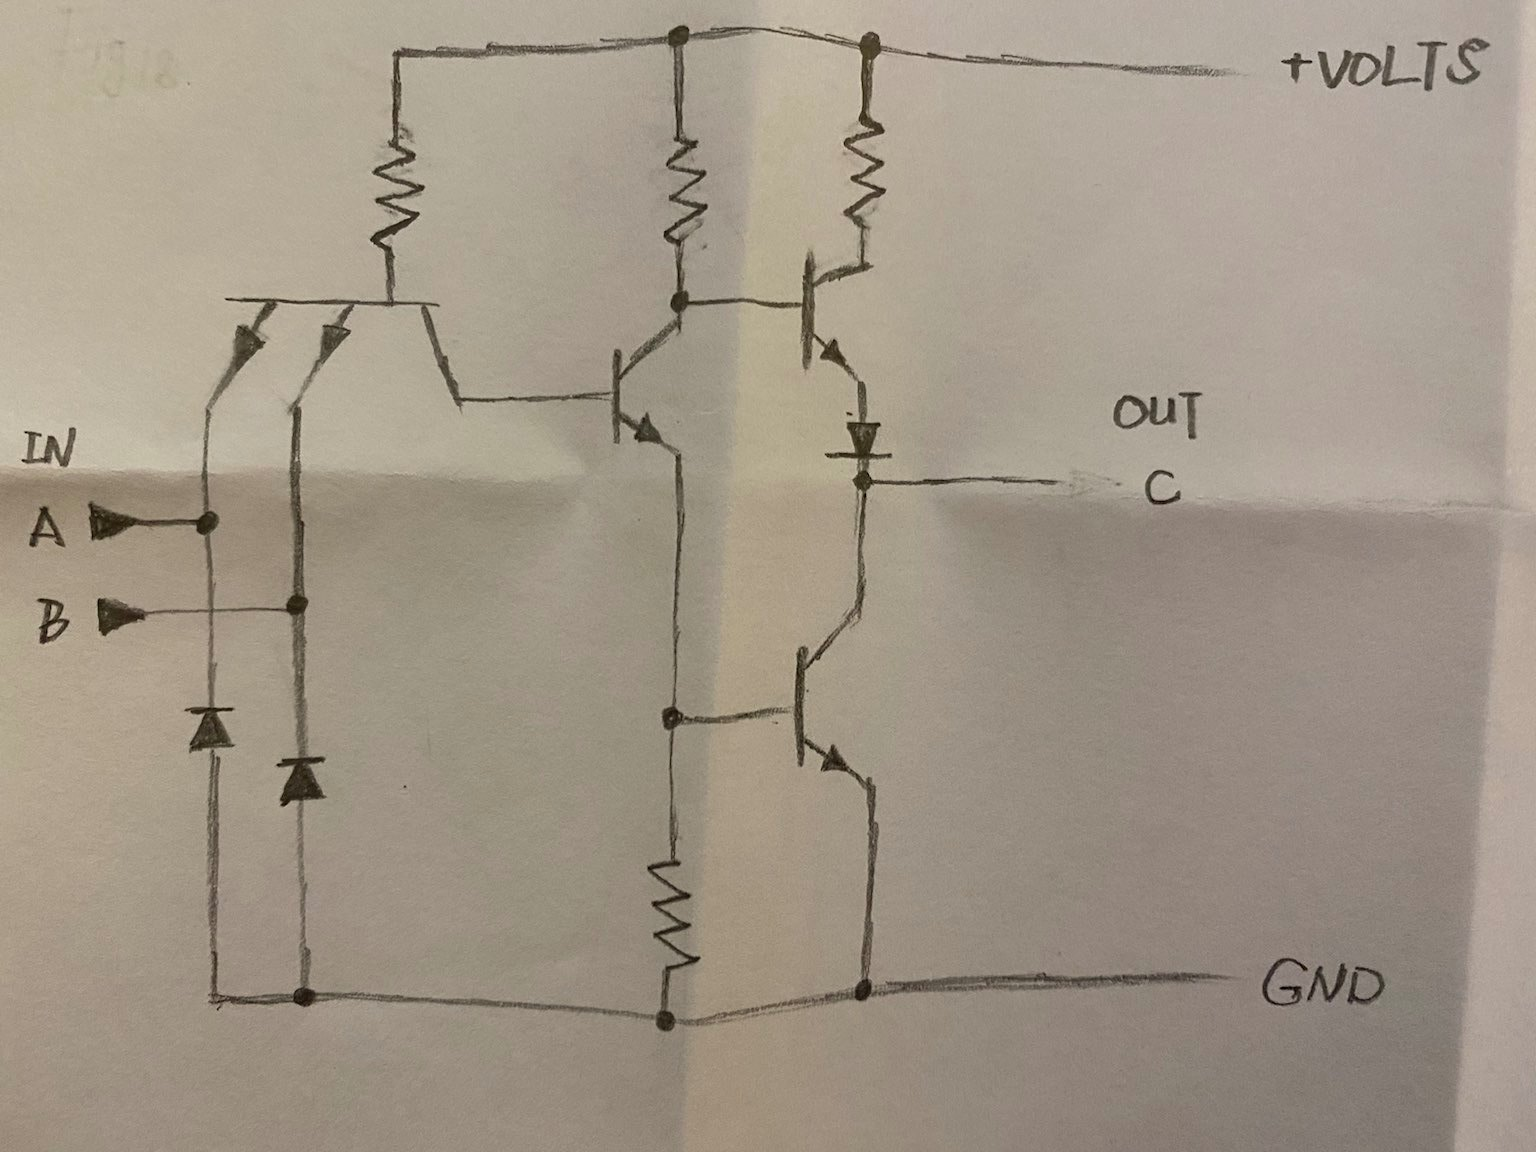crossover: (197, 598, 224, 622)
diode: (177, 695, 254, 764), (268, 744, 336, 811), (821, 411, 906, 463)
junction: (183, 493, 233, 549), (842, 18, 895, 68), (639, 995, 689, 1041), (281, 975, 334, 1018), (657, 15, 705, 58), (841, 964, 883, 1014), (198, 977, 243, 1021), (278, 583, 321, 630), (657, 693, 699, 738), (380, 31, 420, 73), (662, 278, 701, 313), (848, 467, 879, 494)
resistor: (640, 847, 708, 977), (366, 128, 433, 255), (835, 108, 897, 234), (654, 125, 714, 254)
terminal: (1177, 945, 1251, 1000), (76, 493, 144, 545), (1020, 457, 1104, 499), (1178, 46, 1254, 90), (89, 591, 154, 639)
text: (1316, 35, 1495, 96), (1259, 945, 1388, 1016), (1107, 382, 1217, 444), (15, 416, 81, 471), (25, 592, 76, 652), (17, 500, 67, 554), (1139, 463, 1193, 509), (1280, 45, 1313, 86)
transistor: (187, 280, 500, 433), (783, 603, 911, 799), (789, 243, 894, 394), (604, 318, 708, 466)
